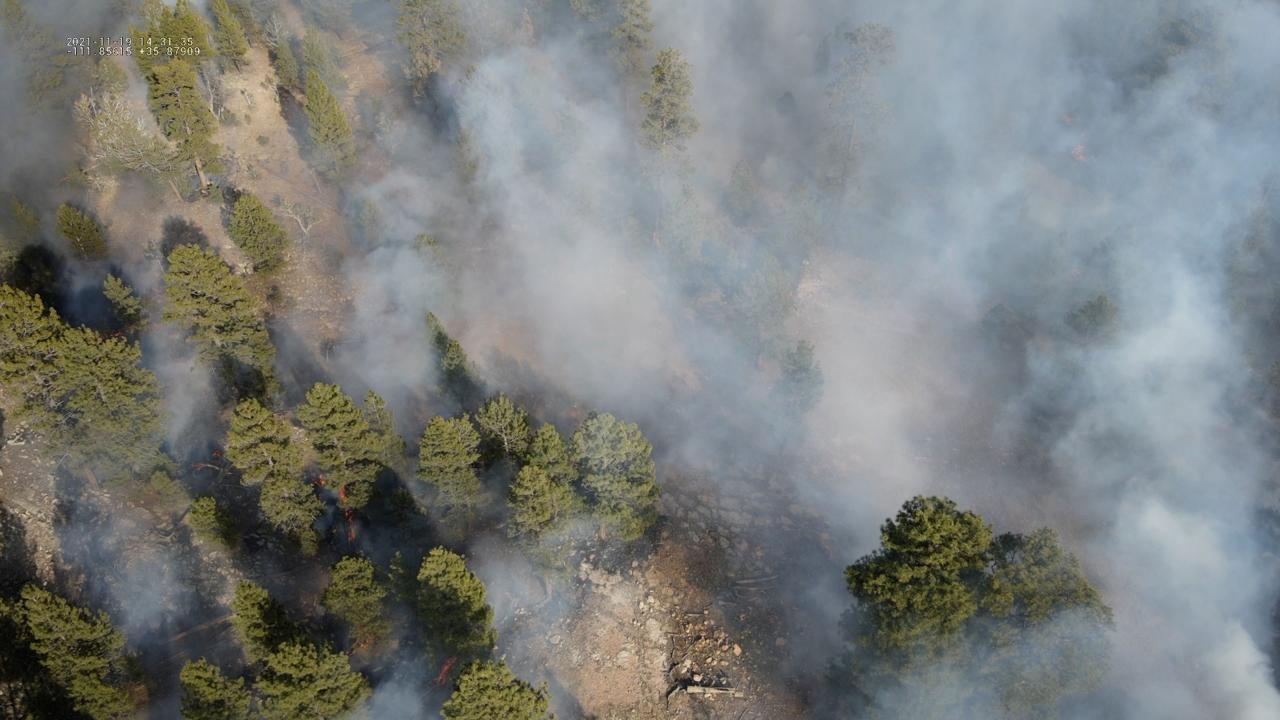fire: (339, 487, 357, 546), (435, 653, 460, 687), (318, 474, 326, 487), (211, 450, 220, 459)
smoke: (0, 0, 1280, 720)
